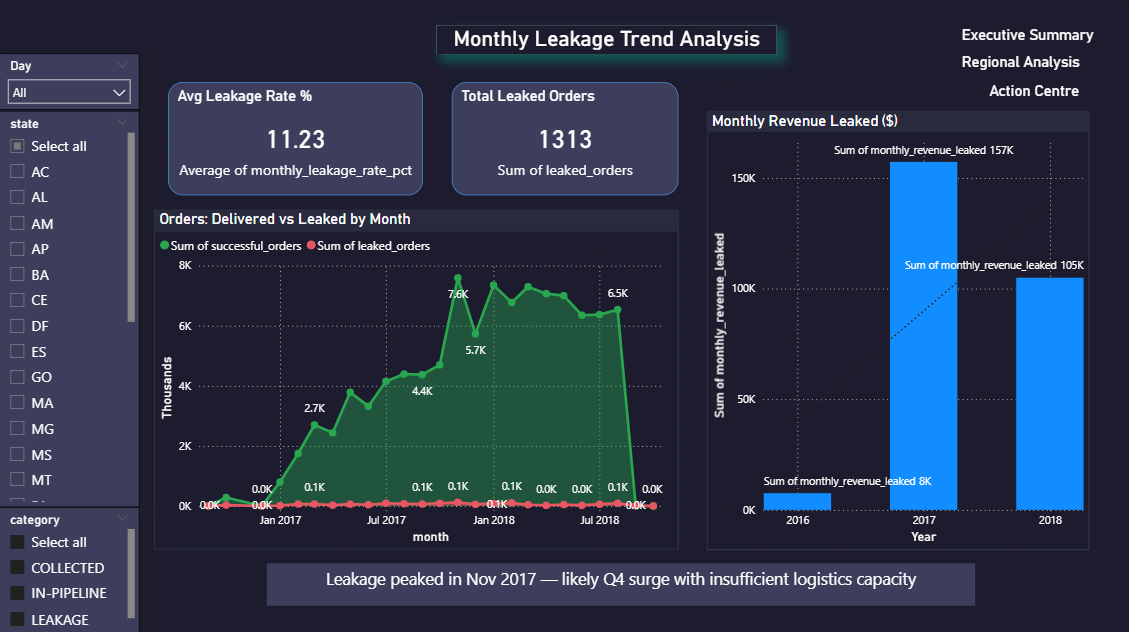

This screenshot's page, from the dashboard's own definition file:
{"tool":"powerbi","page":{"name":"Monthly Trend","canvas":[1280,720],"ordinal":1},"visuals":[{"type":"lineChart","title":"Orders: Delivered vs Leaked by Month","fields":{"Y":["Sum(orders_payments_202604132001.successful_orders)","Sum(orders_payments_202604132001.leaked_orders)"],"Category":["orders_payments_202604132001.month"]},"box":[176,240,592,384],"z":0},{"type":"clusteredColumnChart","title":"Monthly Revenue Leaked ($)","fields":{"Category":["orders_payments_202604132001.month.Variation.Date Hierarchy.Year","orders_payments_202604132001.month.Variation.Date Hierarchy.Quarter","orders_payments_202604132001.month.Variation.Date Hierarchy.Month","orders_payments_202604132001.month.Variation.Date Hierarchy.Day"],"Y":["Sum(orders_payments_202604132001.monthly_revenue_leaked)"]},"box":[800,128,432,496],"z":1000},{"type":"actionButton","title":"Regional Analysis","box":[1088,64,144,32],"z":2000},{"type":"textbox","title":"Monthly Leakage Trend Analysis","box":[496,32,384,32],"z":3000},{"type":"card","title":"Total Leaked Orders","fields":{"Values":["Sum(orders_payments_202604132001.leaked_orders)"]},"box":[512,96,256,128],"z":4000},{"type":"card","title":"Avg Leakage Rate %","fields":{"Values":["Avg(orders_payments_202604132001.monthly_leakage_rate_pct)"]},"box":[192,96,288,128],"z":5000},{"type":"actionButton","title":"Executive Summary","box":[1088,32,192,32],"z":6000},{"type":"slicer","fields":{"Values":["orders_payments_202604132001.month.Variation.Date Hierarchy.Day"]},"box":[0,64,160,64],"z":7000},{"type":"slicer","fields":{"Values":["orders_customers_payments_202604132146.state"]},"box":[0,128,160,448],"z":8000},{"type":"slicer","fields":{"Values":["revenue_summary_totals_202604132000.category"]},"box":[0,576,160,144],"z":9000},{"type":"textbox","box":[304,640,800,48],"z":10000},{"type":"actionButton","title":"Action Centre","box":[1120,96,112,16],"z":10001}]}

Visuals, with their boxes in screenshot pixels (x1, y1, x2, y2), scaled from the page's 1280x720 canvas onto the 1129x632 screenshot:
"Orders: Delivered vs Leaked by Month" lineChart: 155, 211, 677, 548
"Monthly Revenue Leaked ($)" clusteredColumnChart: 706, 112, 1087, 548
"Regional Analysis" actionButton: 960, 56, 1087, 84
"Monthly Leakage Trend Analysis" textbox: 437, 28, 776, 56
"Total Leaked Orders" card: 452, 84, 677, 197
"Avg Leakage Rate %" card: 169, 84, 423, 197
"Executive Summary" actionButton: 960, 28, 1128, 56
slicer - orders_payments_202604132001.month.Variation.Date Hierarchy.Day: 0, 56, 141, 112
slicer - orders_customers_payments_202604132146.state: 0, 112, 141, 506
slicer - revenue_summary_totals_202604132000.category: 0, 506, 141, 631
textbox: 268, 562, 974, 604
"Action Centre" actionButton: 988, 84, 1087, 98
